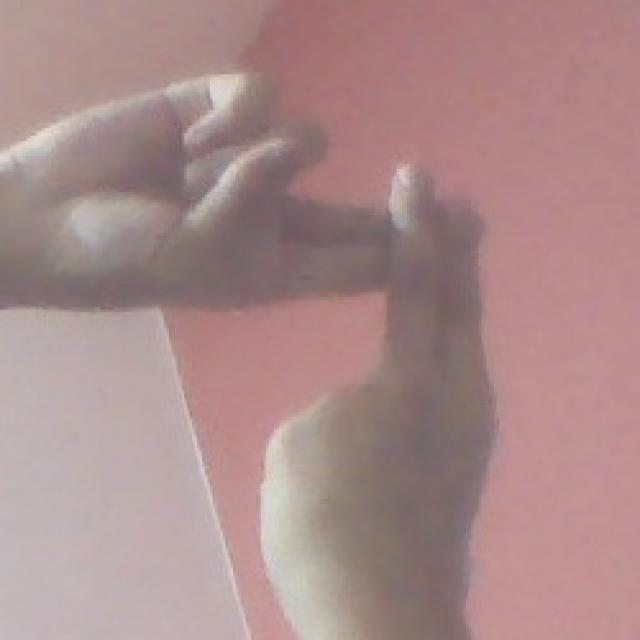Alphabet-F: (20, 65, 512, 581)
